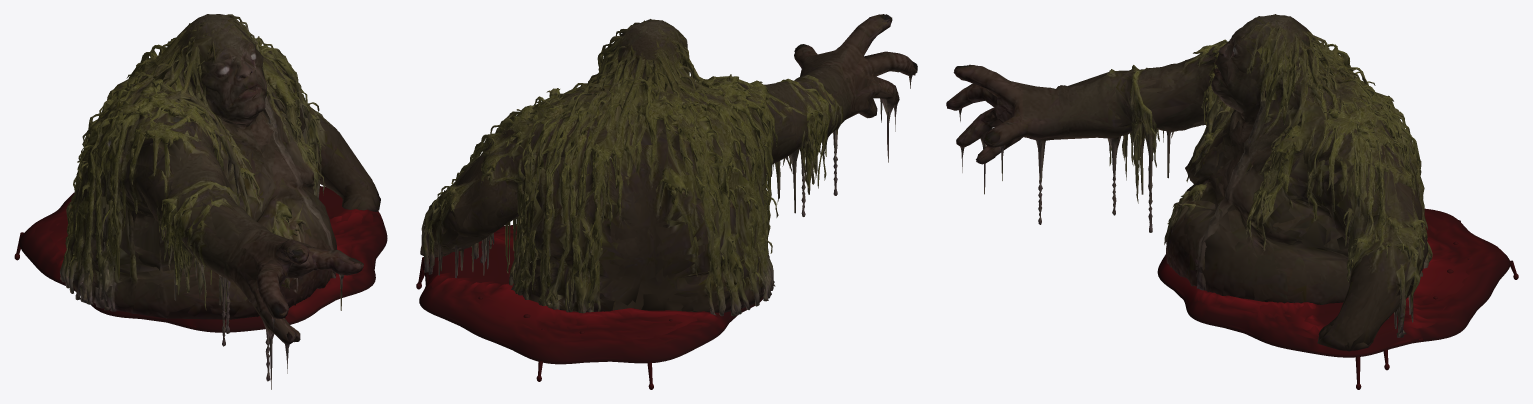
Rendered from drowner-meshy.glb.
3 views of the same model, side by side, from view 1: azimuth 30°, elevation 25°; view 2: azimuth 150°, elevation 25°; view 3: azimuth 270°, elevation 25° (orthographic). The views are drawn at different scales.
Parts seen in each view (by area): view 1: drowner-meshy_lod0_body, drowner-meshy_lod2_body, drowner-meshy_lod1_body, drowner-meshy_lod0_pool, drowner-meshy_lod2_pool, drowner-meshy_lod1_pool; view 2: drowner-meshy_lod0_body, drowner-meshy_lod2_body, drowner-meshy_lod1_body, drowner-meshy_lod0_pool, drowner-meshy_lod2_pool, drowner-meshy_lod1_pool; view 3: drowner-meshy_lod0_body, drowner-meshy_lod2_body, drowner-meshy_lod1_body, drowner-meshy_lod0_pool, drowner-meshy_lod1_pool, drowner-meshy_lod2_pool.
Part boxes in pixels (<box>): drowner-meshy_lod0_body: <box>60,14,380,389</box>; drowner-meshy_lod2_body: <box>60,14,378,339</box>; drowner-meshy_lod1_body: <box>60,14,378,380</box>; drowner-meshy_lod0_pool: <box>14,186,387,332</box>; drowner-meshy_lod2_pool: <box>19,203,387,332</box>; drowner-meshy_lod1_pool: <box>19,196,387,332</box>; drowner-meshy_lod0_body: <box>420,14,917,316</box>; drowner-meshy_lod2_body: <box>421,19,915,314</box>; drowner-meshy_lod1_body: <box>421,14,917,315</box>; drowner-meshy_lod0_pool: <box>416,225,763,389</box>; drowner-meshy_lod2_pool: <box>423,232,743,364</box>; drowner-meshy_lod1_pool: <box>418,228,759,364</box>; drowner-meshy_lod0_body: <box>946,14,1432,350</box>; drowner-meshy_lod2_body: <box>947,14,1432,350</box>; drowner-meshy_lod1_body: <box>946,15,1431,351</box>; drowner-meshy_lod0_pool: <box>1157,208,1518,370</box>; drowner-meshy_lod1_pool: <box>1157,209,1509,389</box>; drowner-meshy_lod2_pool: <box>1158,215,1509,356</box>.
Size of the model in its own units: 1 by 0.8447 by 1.57.
Materials: 2 (1 with a texture image).
